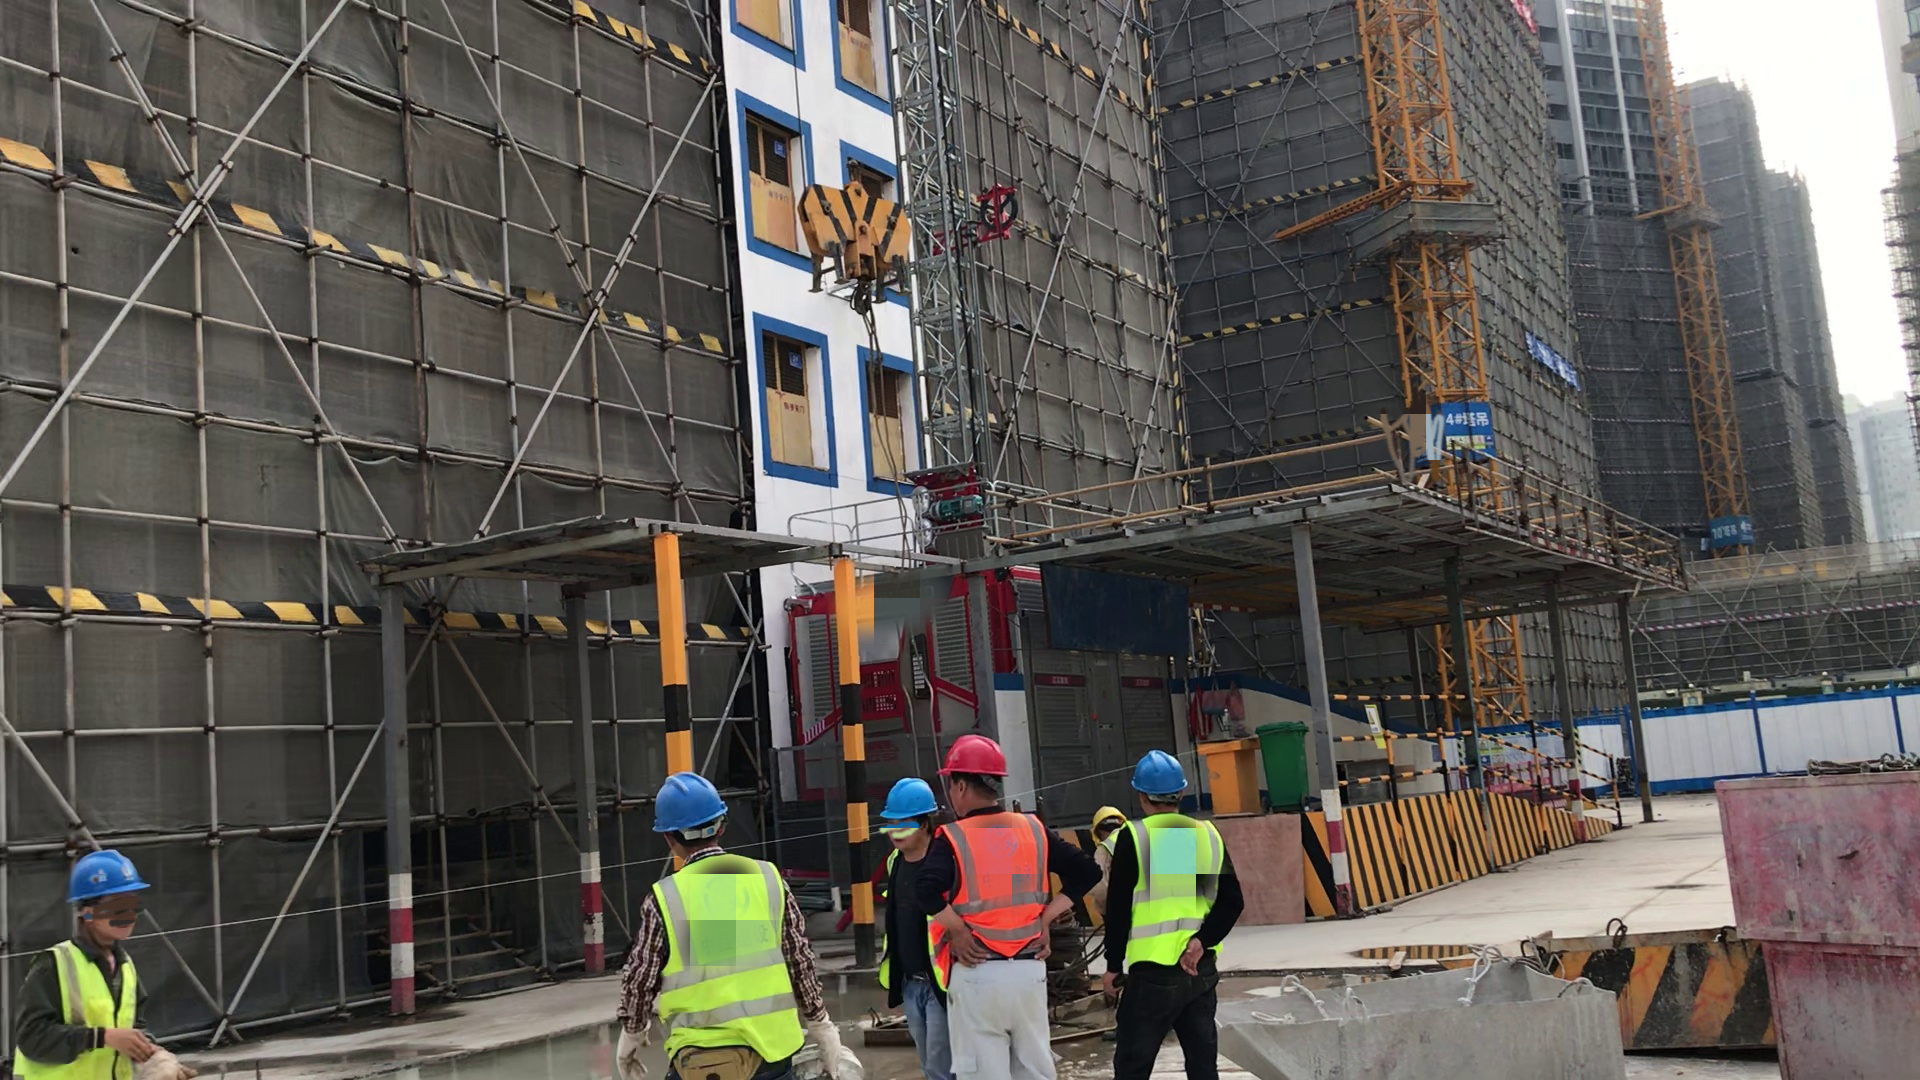helmet: (650, 772, 734, 842), (61, 848, 155, 907), (939, 733, 1011, 786), (1133, 745, 1196, 798), (883, 777, 941, 830), (1083, 786, 1125, 840)
person: (604, 765, 858, 1080), (920, 719, 1109, 1080), (1086, 750, 1243, 1080), (6, 841, 195, 1080), (870, 773, 955, 1069)
vest: (643, 857, 811, 1080), (1113, 811, 1232, 987), (938, 819, 1051, 983), (31, 930, 141, 1080), (882, 841, 947, 1005)
